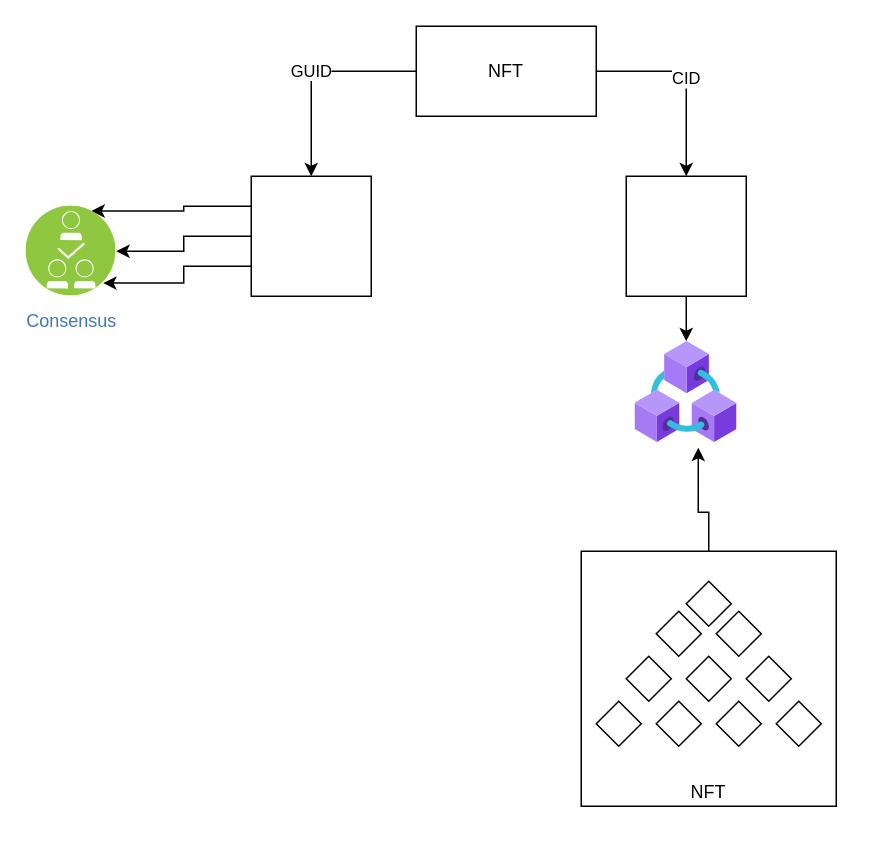
Image size: 891x863. Some labels were removed from this diagram. Here are the shapes that lost their labels. From the top down, the box of each, then its label:
(250, 175, 371, 296): Metadata
(625, 175, 746, 296): IPFS
